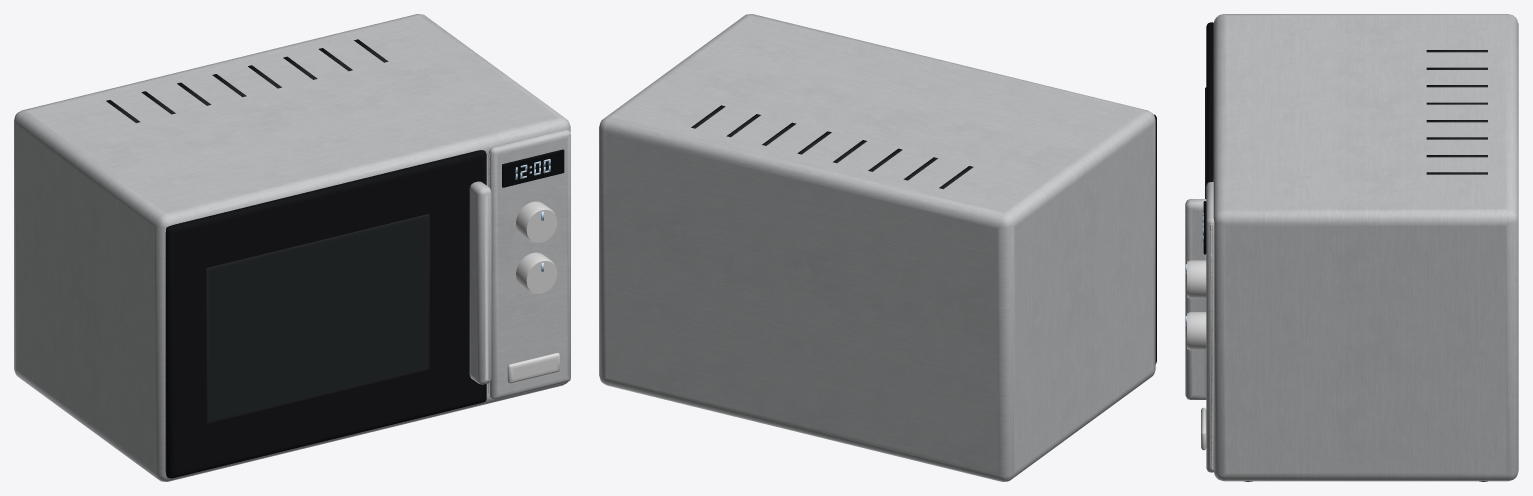
The model's file is microondas_inox_32l.glb.
3 views of the same model, side by side, from view 1: azimuth 30°, elevation 25°; view 2: azimuth 150°, elevation 25°; view 3: azimuth 270°, elevation 25° (orthographic).
Visible parts, largest first — view 1: microondas_inox_32l; view 2: microondas_inox_32l; view 3: microondas_inox_32l.
Boxes of the visible parts, box(x1,y1,x2,y2) form: microondas_inox_32l: box(14, 14, 570, 481); microondas_inox_32l: box(599, 14, 1156, 481); microondas_inox_32l: box(1185, 14, 1518, 481).
Size of the model in its own units: 0.55 by 0.3501 by 0.38.
7 materials, 1 textured.
